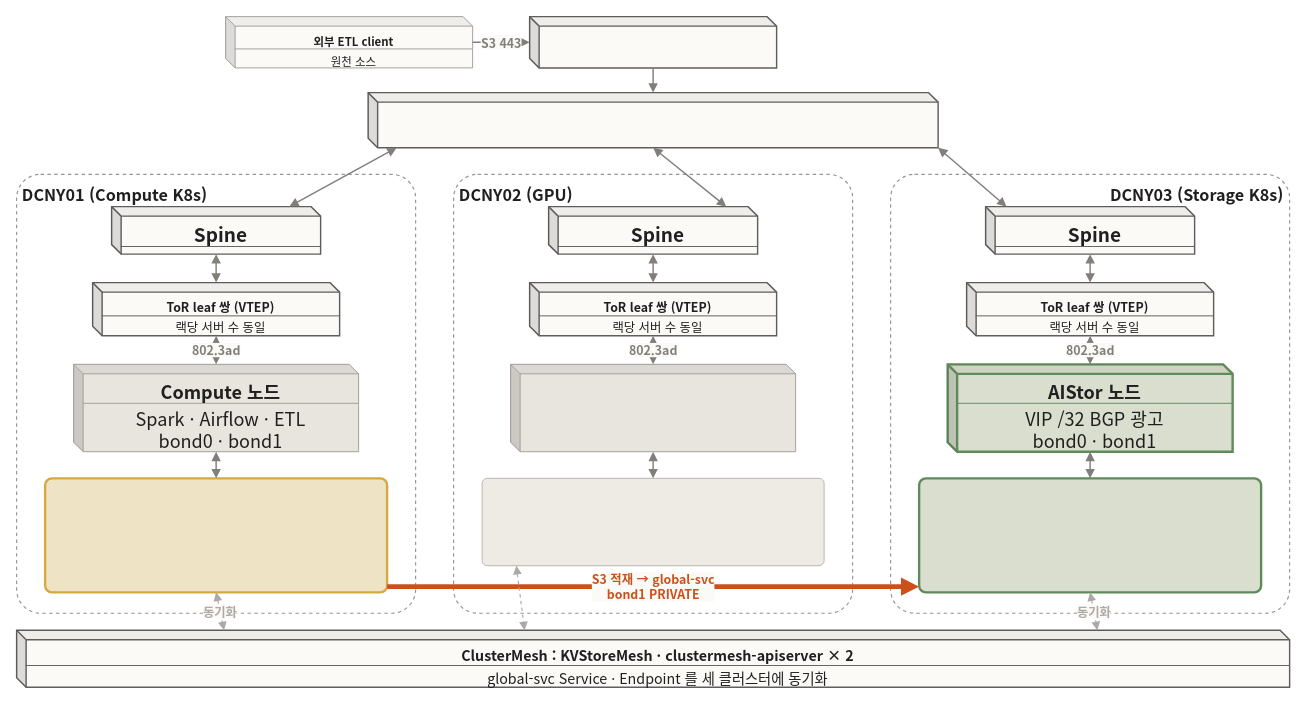
This 1307x705 diagram has some shape labels left out. The shapes that lost their labels are listed below. From the top down, each one's centre as x and y in pixels, then its label:
At point 652,41: "FA Core DC 코어 · 방화벽".
At point 652,119: "Super Spine (세 구간에 걸친 같은 패브릭) Border · VRF PUBLIC / PRIVATE".
At point 653,407: "GPU 노드 AI 학습 · 추론 bond0 · bond1".
At point 216,535: "Compute K8s (Cilium) ETL client Pod Spark · Airflow · Arrow Flight".
At point 652,521: "GPU K8s (Cilium) 학습 Pod S3 읽기 · 체크포인트".
At point 1090,535: "Storage K8s (AIStor) global-svc (Global Service) → AIStor Pod".
